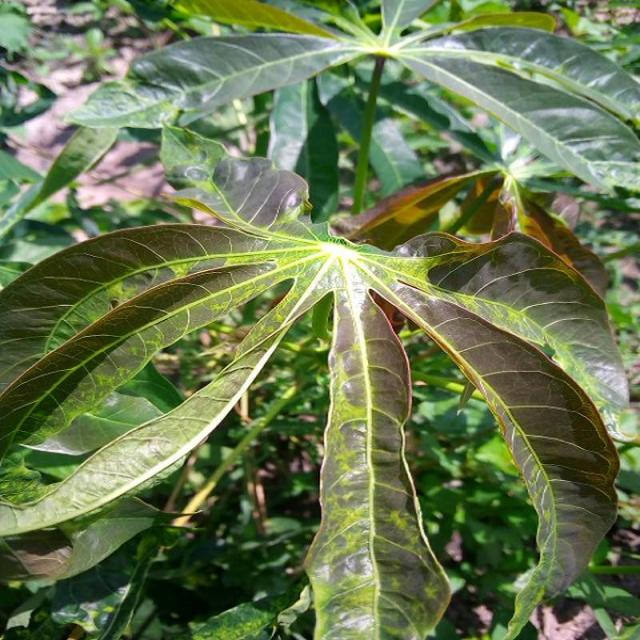cassava leaf: (1, 209, 628, 638)
